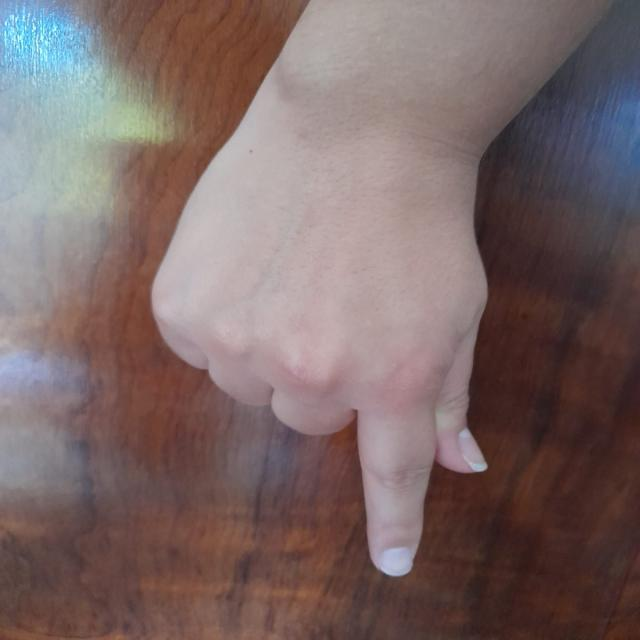Q: (147, 162, 504, 582)
